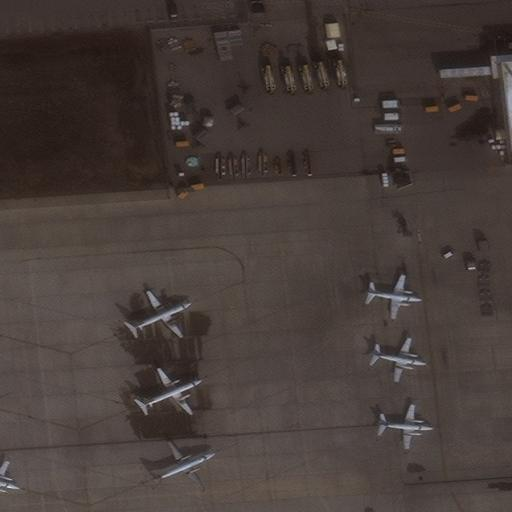Medium Civil Transport: (154, 437, 216, 489), (129, 289, 191, 335), (140, 367, 202, 413)
Small Civil Transport: (375, 404, 434, 448), (368, 338, 426, 382), (366, 275, 423, 319), (0, 462, 20, 499)
